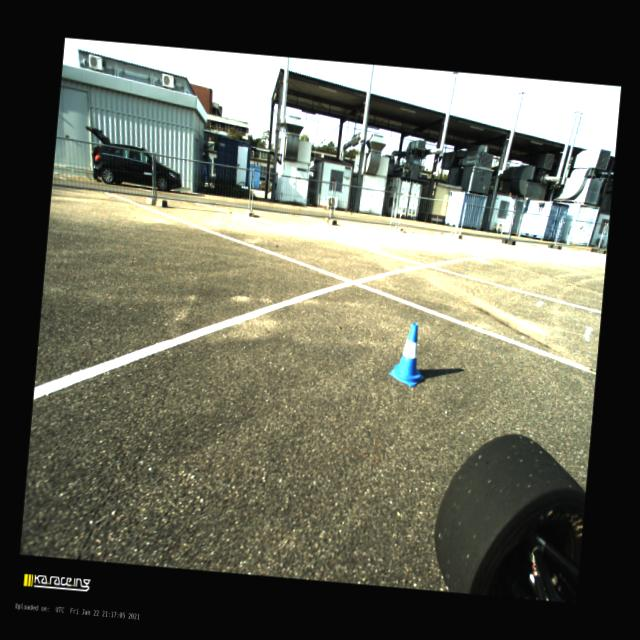blue_cone: (388, 321, 428, 386)
